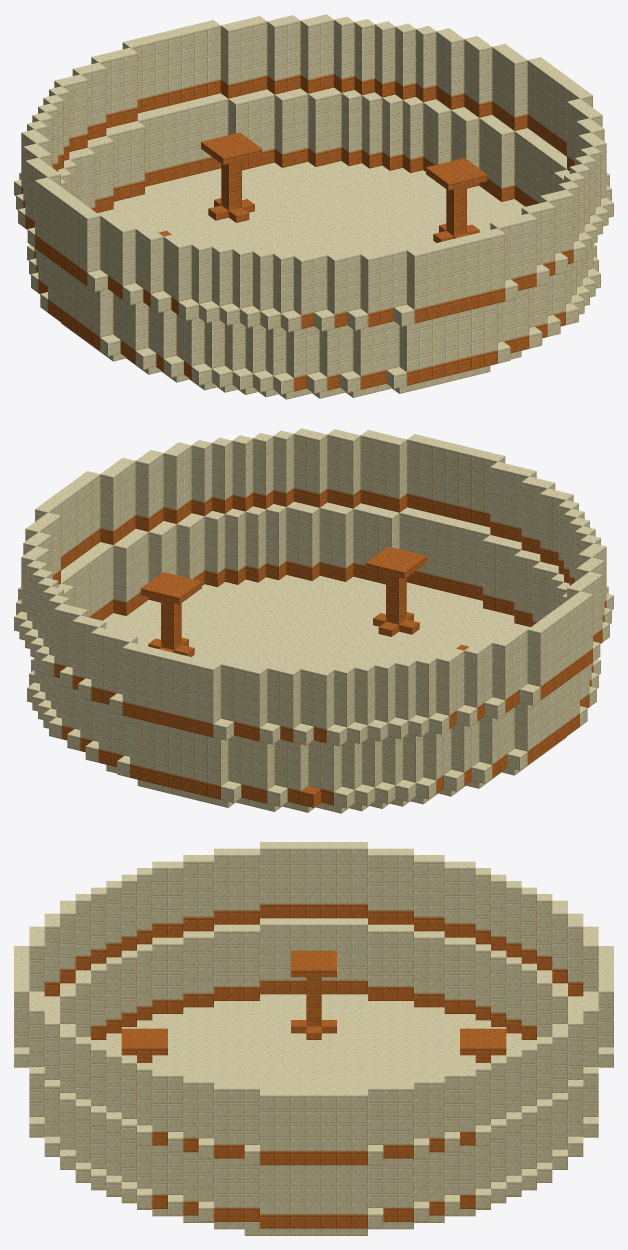
3 views of the same model, one above another, from view 1: azimuth 30°, elevation 25°; view 2: azimuth 150°, elevation 25°; view 3: azimuth 270°, elevation 25° (orthographic). The views are drawn at different scales.
Visible parts, largest first — view 1: Cut_Sandstone, Cut_Red_Sandstone, Cut_Red_Sandstone_Slab; view 2: Cut_Sandstone, Cut_Red_Sandstone, Cut_Red_Sandstone_Slab; view 3: Cut_Sandstone, Cut_Red_Sandstone, Cut_Red_Sandstone_Slab.
Part boxes in pixels (bbox=[...]): Cut_Sandstone: bbox=[14, 14, 613, 399]; Cut_Red_Sandstone: bbox=[21, 74, 574, 391]; Cut_Red_Sandstone_Slab: bbox=[159, 132, 487, 242]; Cut_Sandstone: bbox=[14, 428, 613, 813]; Cut_Red_Sandstone: bbox=[53, 488, 606, 807]; Cut_Red_Sandstone_Slab: bbox=[140, 546, 468, 656]; Cut_Sandstone: bbox=[14, 842, 613, 1235]; Cut_Red_Sandstone: bbox=[44, 904, 583, 1228]; Cut_Red_Sandstone_Slab: bbox=[121, 950, 506, 1055].
Size of the model in its own units: 39 by 11 by 39.
3 materials, 3 textured.
